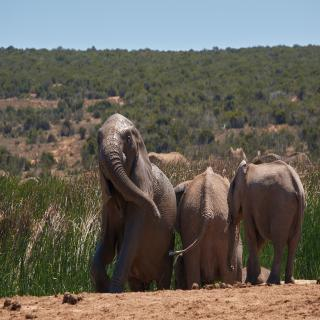Elephant: (86, 110, 177, 316), (224, 155, 312, 292), (169, 162, 250, 297)
